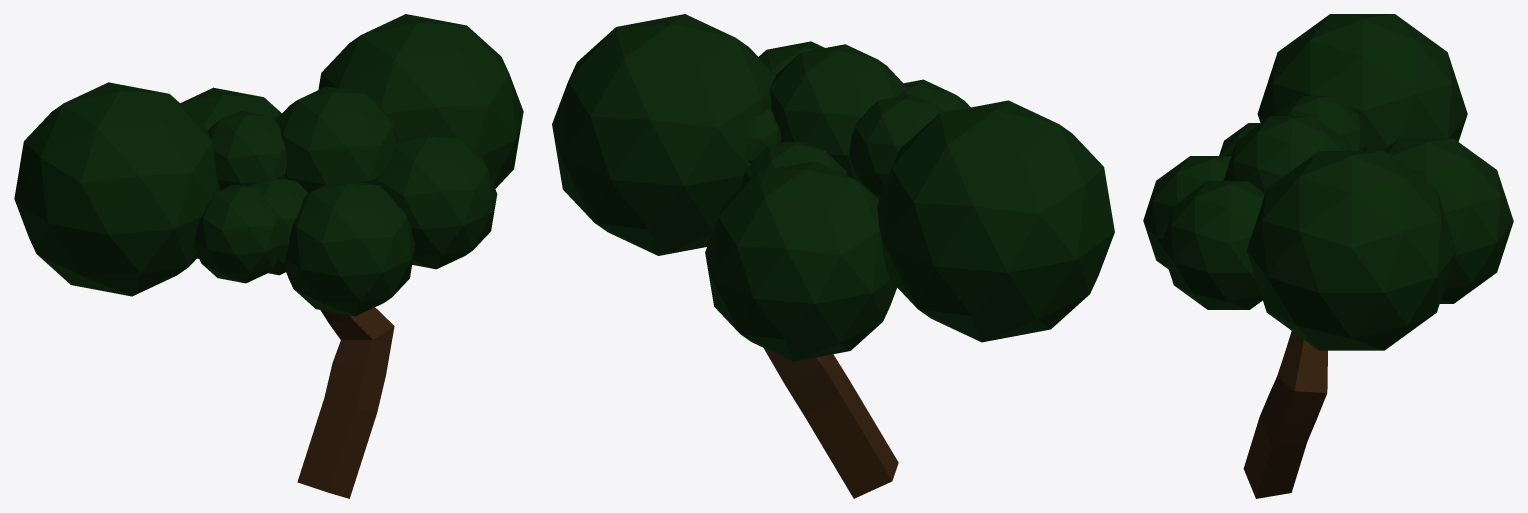
File: Tree1-col.obj
The picture shows the model from 3 angles, left to right: view 1: azimuth 30°, elevation 25°; view 2: azimuth 150°, elevation 25°; view 3: azimuth 270°, elevation 25°; orthographic projection. The views are drawn at different scales.
Visible parts, largest first — view 1: Icosphere.005, Icosphere.001, Icosphere.009, Icosphere.008, Cube, Icosphere.002, Icosphere.010, Icosphere.004, Icosphere.007, Icosphere.006; view 2: Icosphere.005, Icosphere.001, Icosphere.006, Icosphere.002, Cube, Icosphere.004, Icosphere.003, Icosphere, Icosphere.009, Icosphere.008; view 3: Icosphere.001, Icosphere.005, Icosphere.008, Icosphere.006, Cube, Icosphere.002, Icosphere.009, Icosphere.004, Icosphere.010.
Boxes of the visible parts, bbox=[...] form: Icosphere.005: bbox=[14, 82, 220, 296]; Icosphere.001: bbox=[318, 14, 523, 188]; Icosphere.009: bbox=[284, 180, 415, 316]; Icosphere.008: bbox=[376, 131, 497, 269]; Cube: bbox=[297, 307, 394, 498]; Icosphere.002: bbox=[275, 86, 398, 192]; Icosphere.010: bbox=[194, 184, 279, 283]; Icosphere.004: bbox=[207, 110, 286, 190]; Icosphere.007: bbox=[250, 178, 308, 275]; Icosphere.006: bbox=[180, 87, 281, 258]; Icosphere.005: bbox=[877, 100, 1114, 342]; Icosphere.001: bbox=[552, 14, 776, 255]; Icosphere.006: bbox=[705, 161, 897, 361]; Icosphere.002: bbox=[769, 44, 908, 178]; Cube: bbox=[764, 348, 898, 498]; Icosphere.004: bbox=[849, 94, 943, 199]; Icosphere.003: bbox=[741, 141, 847, 186]; Icosphere: bbox=[743, 109, 781, 163]; Icosphere.009: bbox=[904, 79, 970, 112]; Icosphere.008: bbox=[759, 41, 824, 74]; Icosphere.001: bbox=[1247, 151, 1456, 350]; Icosphere.005: bbox=[1257, 14, 1467, 150]; Icosphere.008: bbox=[1161, 181, 1264, 309]; Icosphere.006: bbox=[1383, 138, 1513, 303]; Cube: bbox=[1243, 331, 1327, 498]; Icosphere.002: bbox=[1223, 116, 1349, 193]; Icosphere.009: bbox=[1143, 156, 1231, 269]; Icosphere.004: bbox=[1277, 96, 1367, 150]; Icosphere.010: bbox=[1219, 123, 1260, 155].
Size of the model in its own units: 6.86 by 5.74 by 4.83.
